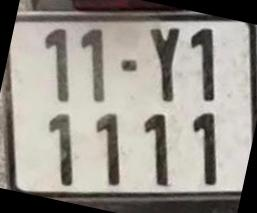-: (121, 60, 137, 72)
1: (48, 114, 73, 187), (144, 115, 169, 187), (82, 28, 106, 102), (191, 29, 215, 101), (46, 29, 69, 103), (98, 113, 120, 187), (194, 114, 216, 186)
Y: (149, 28, 180, 100)
